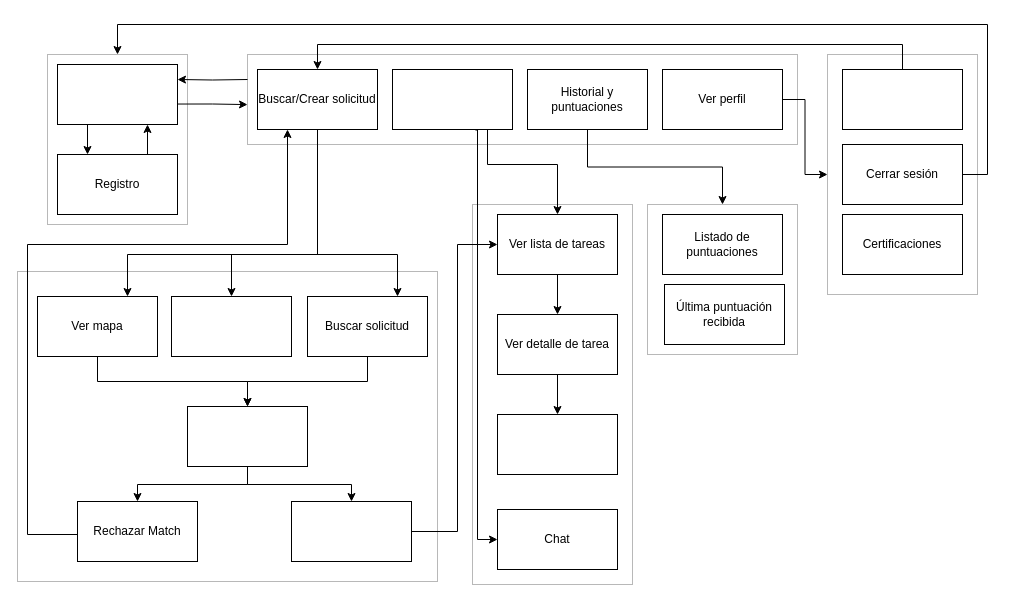
This 1013x602 diagram has some shape labels left out. The shapes that lost their labels are listed below. From the top down, each one's centre as x and y in pixels, then its label:
pixel 117 94: Inicio de sesión
pixel 452 99: Tareas
pixel 902 99: Detalles perfil
pixel 231 326: Crear solicitud
pixel 247 436: Buscar Match
pixel 557 444: Ver comentarios
pixel 351 531: Aceptar Match
